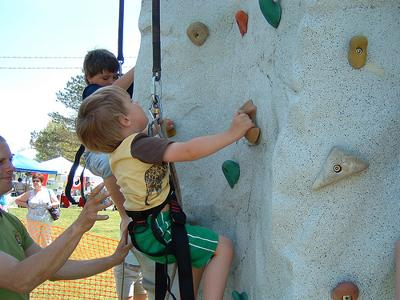person: (74, 85, 258, 300)
